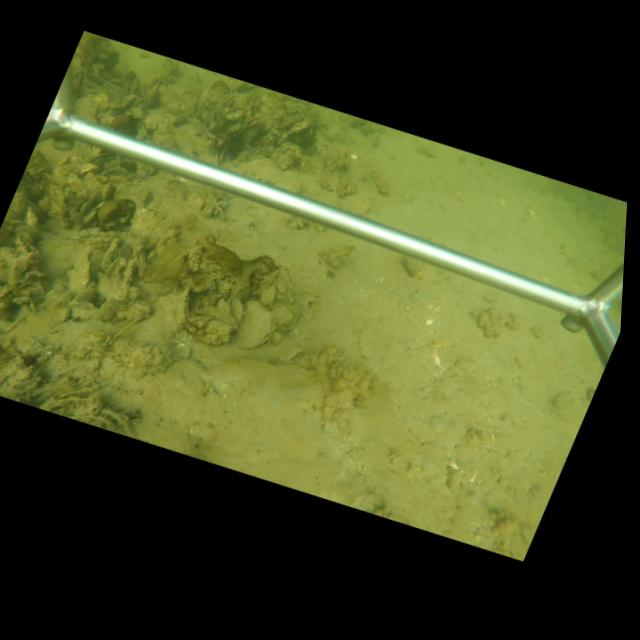Oyster-Closed: (233, 299, 277, 349), (171, 285, 190, 333), (275, 264, 295, 305)
Oyster-Indeterminate: (67, 247, 94, 294)
